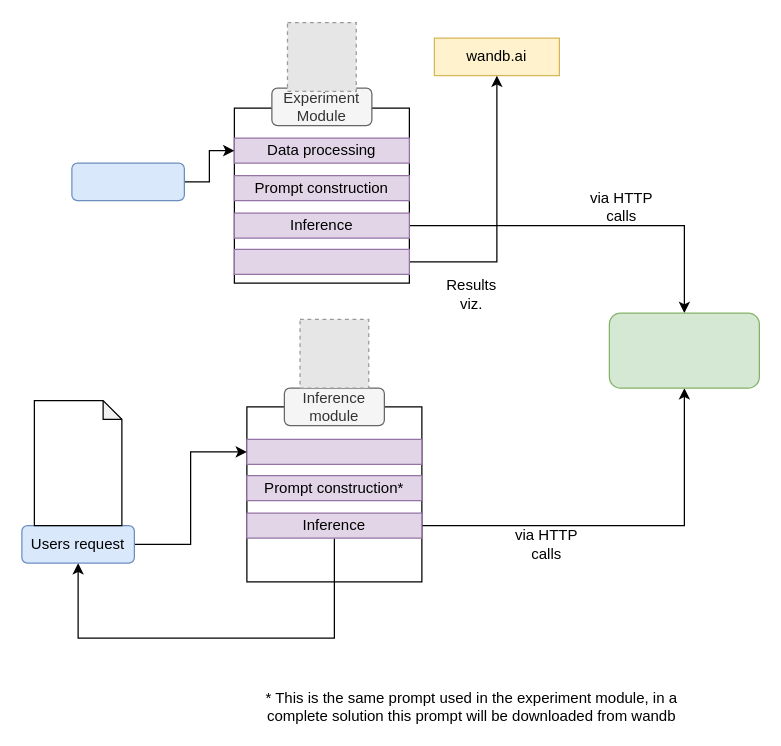
Image size: 781x746. Some labels were removed from this diagram. Grey dashed boxes stand in for pictures. The shapes that lost their labels are listed below. From the top down, each one's centre as x and y in pixels, then its label:
At pixel 127 181: "BIRD Dataset".
At pixel 321 261: "Evaluation".
At pixel 683 350: "LLM (Local / TogetherAI)".
At pixel 77 462: "- Question - Database in context - Hint (Optional)".
At pixel 334 451: "FastAPI".
